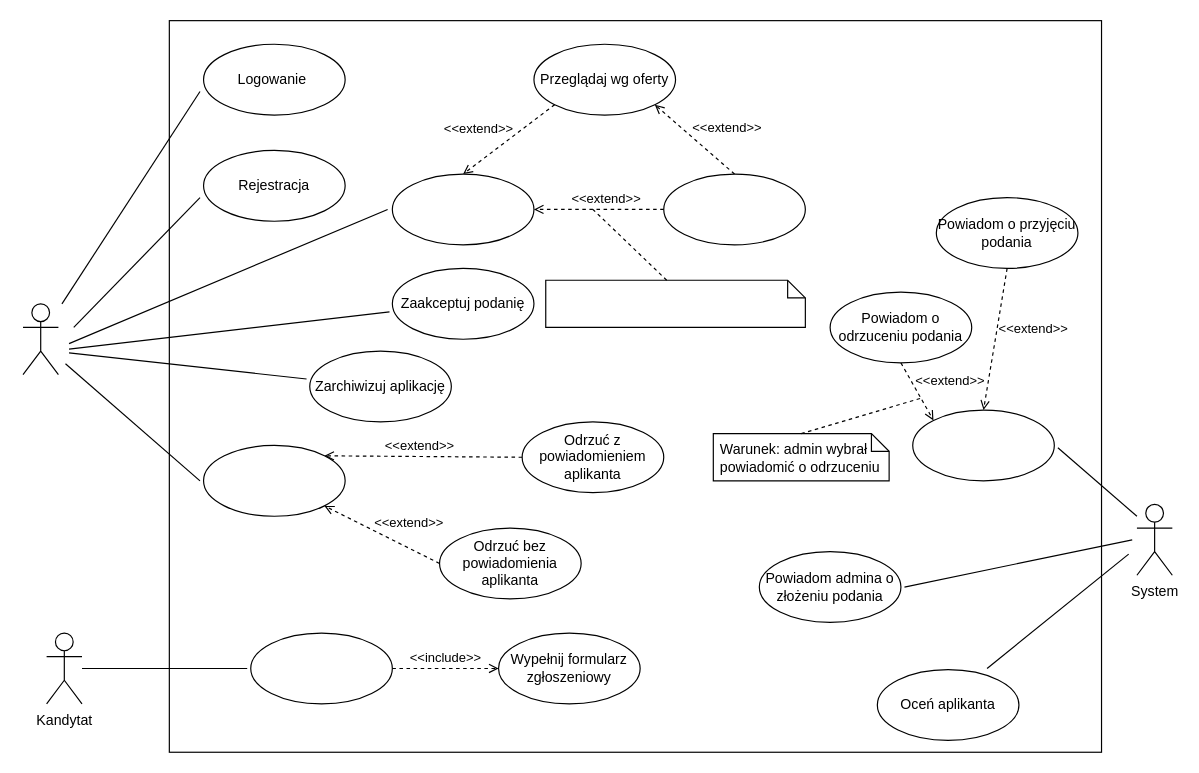
Image size: 1199x773. Some labels were removed from this diagram. The shapes that lost their labels are listed below. From the top down, each one's centre as x and y in pixels, then its label:
At [462,209]: "Przeglądaj podania".
At [734,209]: "Przeglądaj wg oceny podania".
At [675,303]: "Warunek: opublikowano tylko jedną ofertę".
At [40,339]: "Admin".
At [983,445]: "Powiadom aplikanta".
At [273,480]: "Odrzuć podanię".
At [321,668]: "Złóż podanie o pracę".
